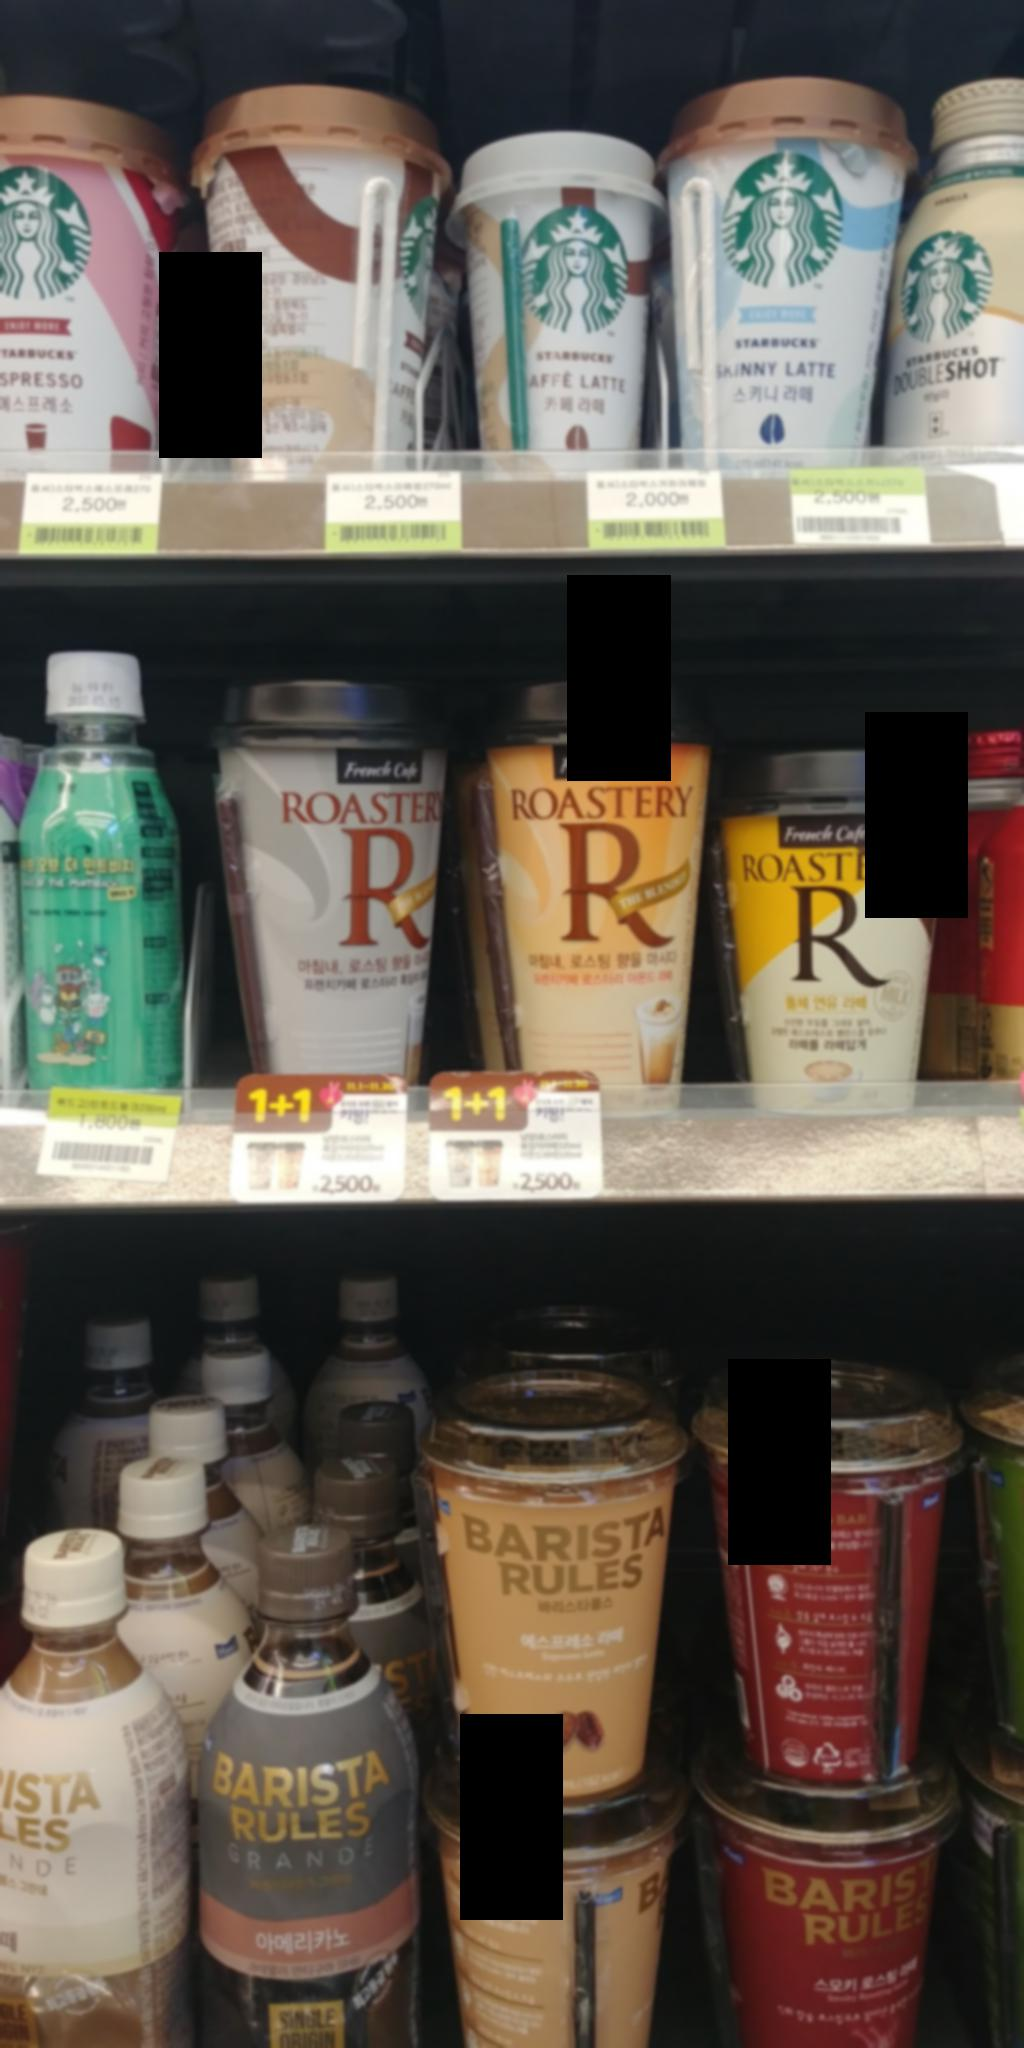baristarules_espressolatte: (415, 1388, 673, 1783)
starbucks_cafelatte: (195, 64, 414, 457)
